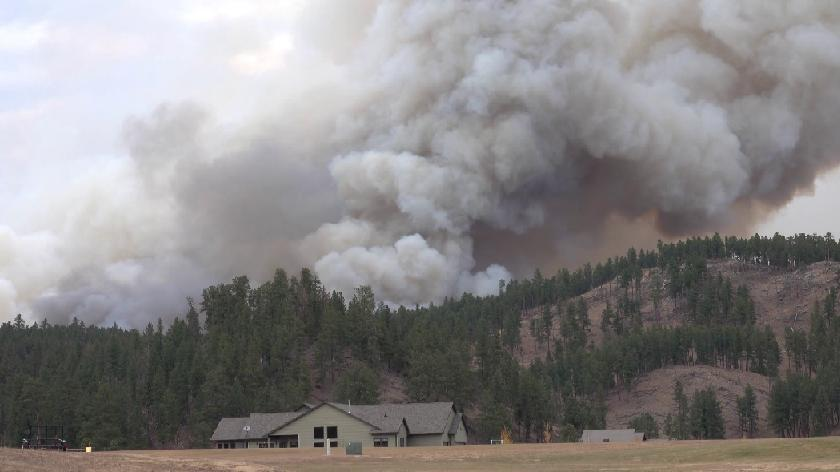smoke: (341, 16, 505, 269)
